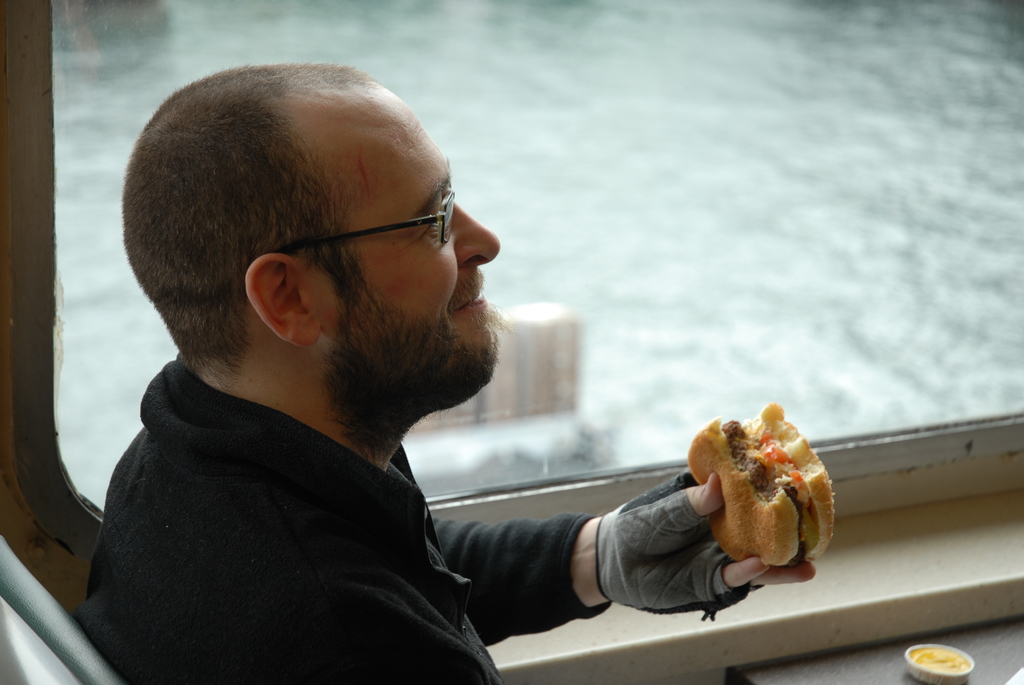hot_dog: (674, 404, 829, 586)
